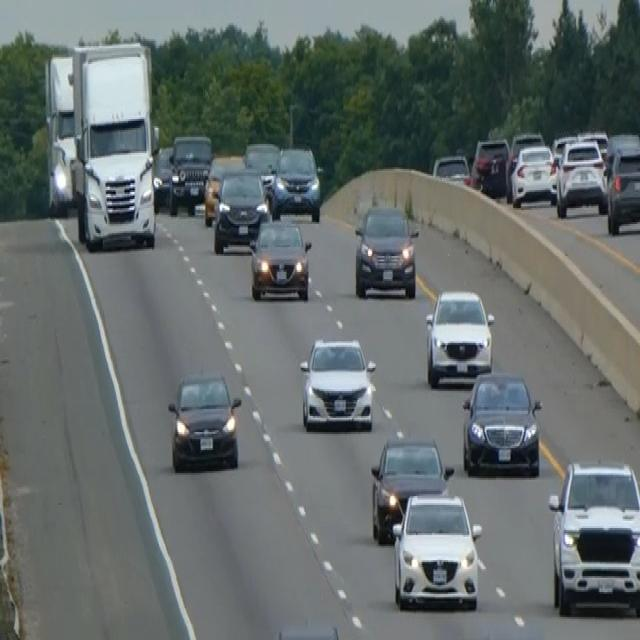bus: (69, 39, 158, 251)
car: (547, 455, 639, 617), (391, 489, 482, 611), (369, 434, 453, 542), (461, 368, 542, 476), (167, 368, 241, 473), (298, 334, 376, 432), (424, 286, 495, 386), (353, 201, 418, 299), (248, 215, 312, 301), (213, 166, 269, 254), (555, 137, 607, 217), (270, 144, 322, 220), (167, 132, 212, 215), (604, 142, 639, 235), (202, 153, 245, 226), (508, 142, 556, 206), (470, 135, 510, 197), (243, 138, 280, 196), (432, 151, 471, 187), (508, 130, 543, 170), (152, 144, 173, 208), (578, 128, 609, 162)
lorry: (48, 135, 77, 213)
